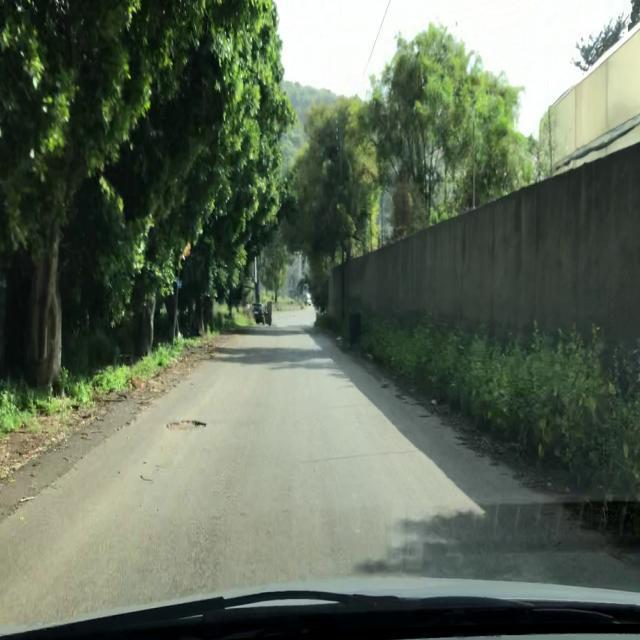Buraco: (164, 418, 208, 434)
